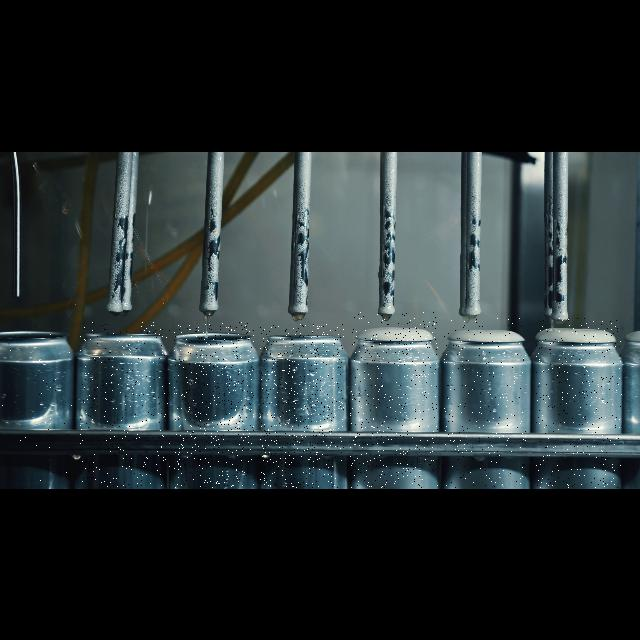empty: (80, 322, 170, 488), (260, 324, 344, 488), (174, 322, 254, 488), (2, 320, 74, 488)
full: (350, 312, 438, 488), (536, 318, 622, 488), (444, 318, 526, 488)
